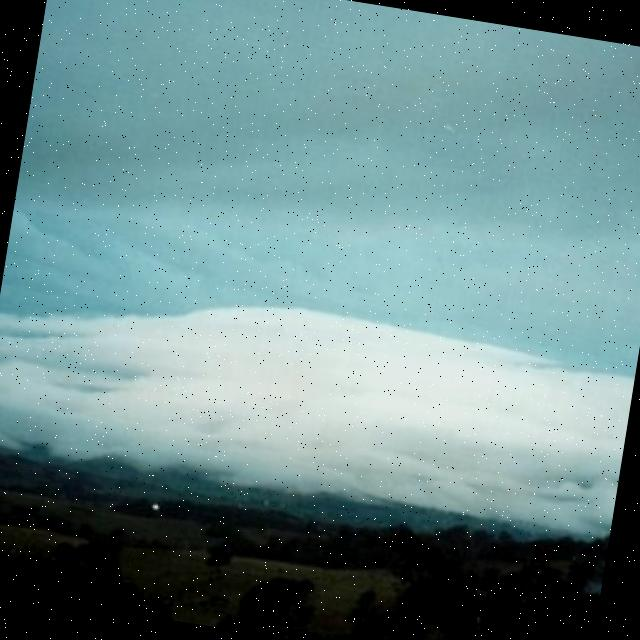St: (1, 232, 640, 561)
